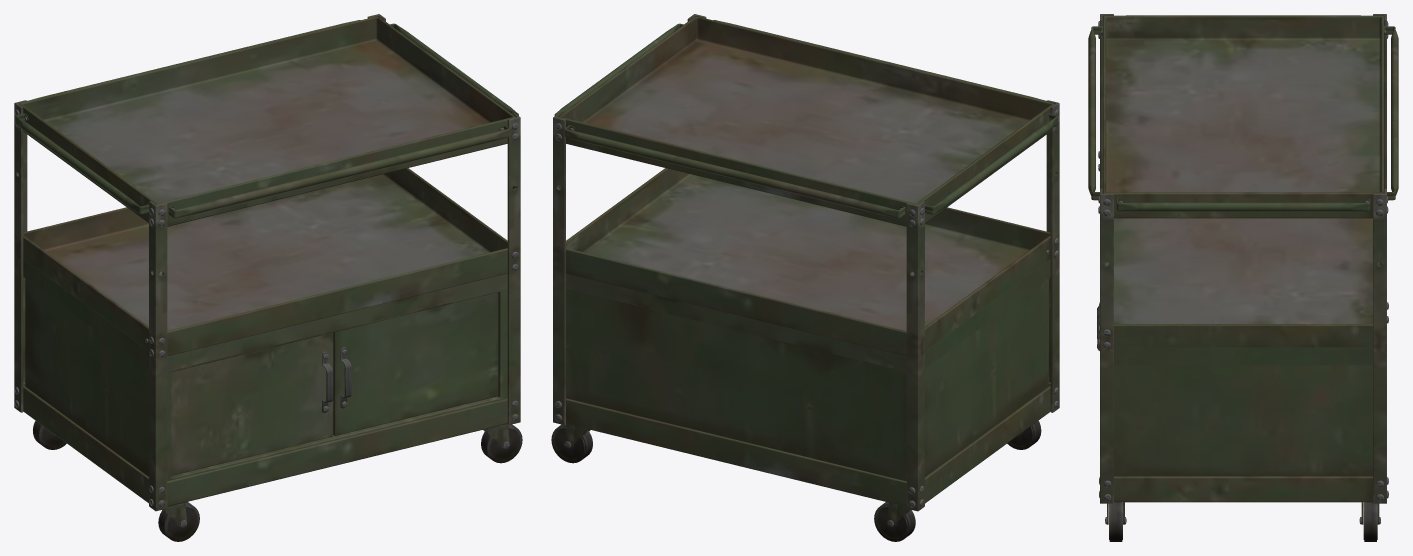
File: industrial_storage_cart.glb
The picture shows the model from 3 angles, left to right: view 1: azimuth 30°, elevation 25°; view 2: azimuth 150°, elevation 25°; view 3: azimuth 270°, elevation 25°; orthographic projection.
Visible parts, largest first — view 1: industrial_storage_cart; view 2: industrial_storage_cart; view 3: industrial_storage_cart.
Boxes of the visible parts, bbox=[...] form: industrial_storage_cart: bbox=[14, 14, 522, 541]; industrial_storage_cart: bbox=[551, 14, 1059, 541]; industrial_storage_cart: bbox=[1088, 14, 1398, 541].
Size of the model in its own units: 1.6 by 1.38 by 1.1.
1 material, 1 textured.
